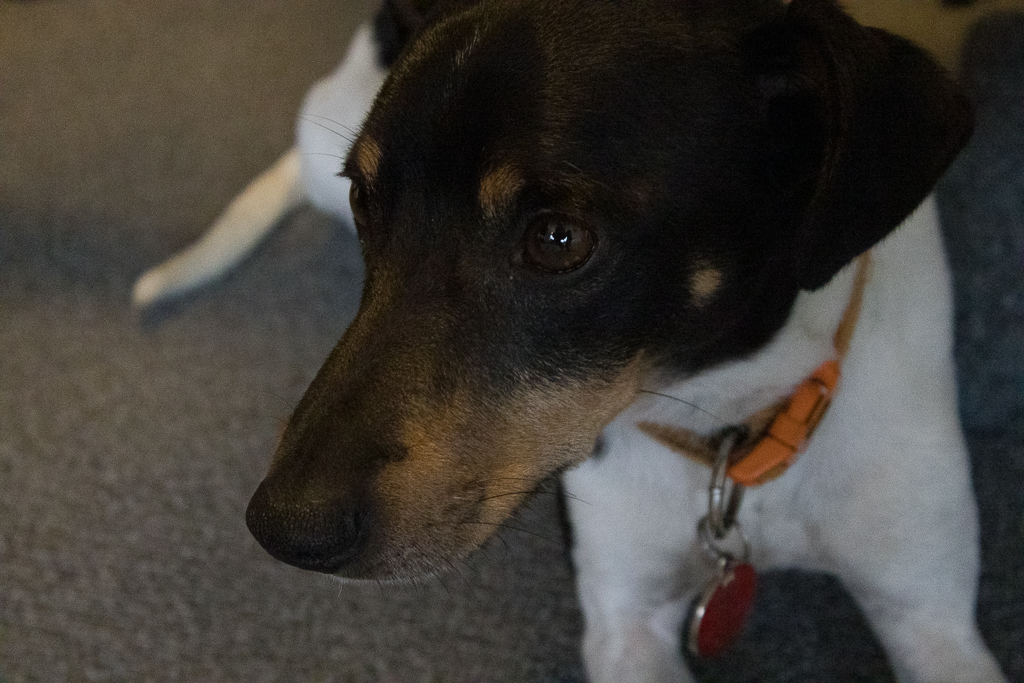Dog: (124, 0, 1024, 683)
